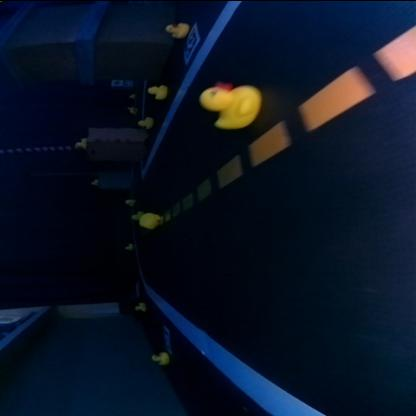Duckie: (200, 82, 260, 127), (138, 211, 160, 227), (165, 21, 187, 36), (151, 350, 170, 364), (148, 84, 166, 98), (136, 116, 152, 128), (74, 137, 86, 147), (136, 301, 146, 309), (130, 210, 140, 218), (124, 242, 132, 248), (90, 178, 98, 184), (129, 106, 137, 112), (126, 198, 132, 204)
QR code: (162, 324, 170, 350)
